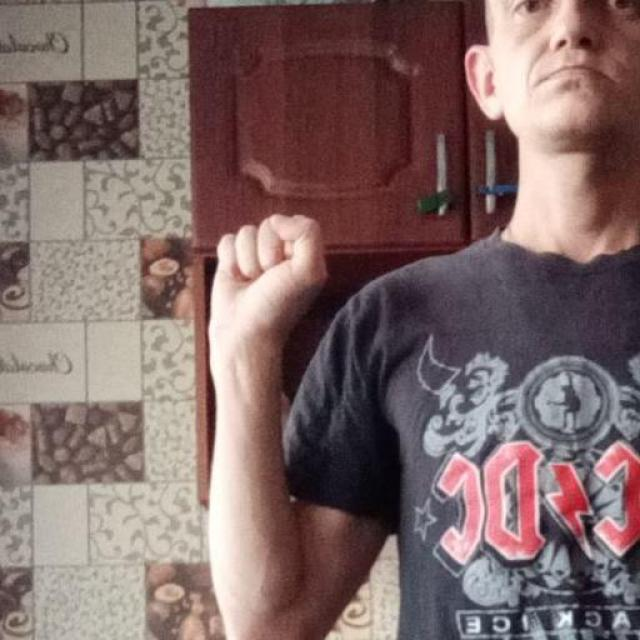hand: (205, 210, 329, 399)
